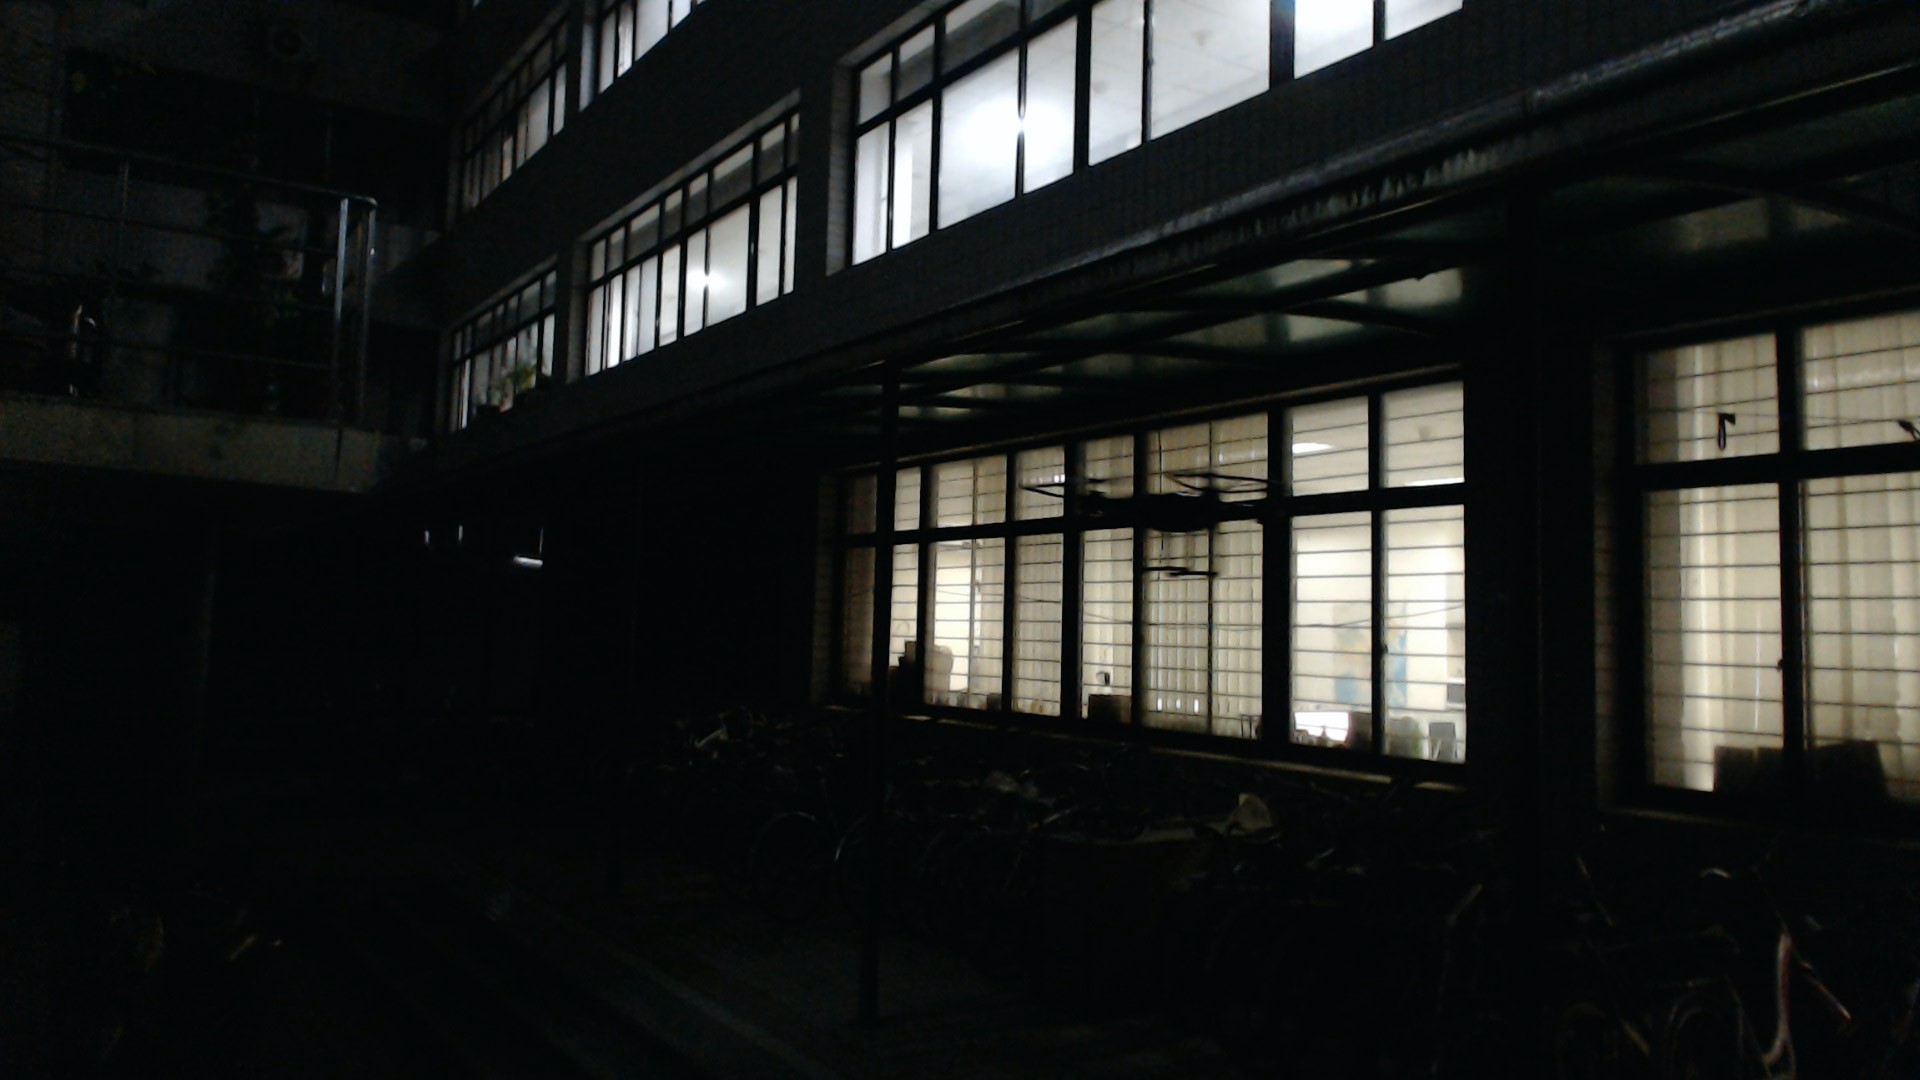test_drone: (1011, 458, 1298, 591)
